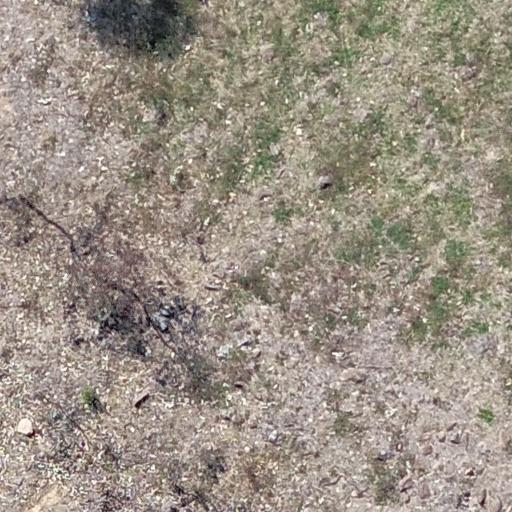stone: (16, 419, 36, 438), (134, 389, 152, 409), (262, 426, 281, 443), (217, 406, 237, 421), (398, 474, 414, 492), (472, 488, 486, 507), (216, 344, 231, 360), (487, 496, 501, 512), (228, 414, 246, 426), (418, 484, 432, 498), (348, 488, 365, 498), (418, 443, 432, 454), (36, 97, 54, 105), (330, 350, 344, 360), (251, 346, 262, 358), (276, 167, 286, 180), (432, 396, 442, 407), (293, 126, 303, 136), (378, 449, 388, 459), (234, 381, 244, 390), (437, 432, 447, 441), (183, 44, 191, 52)
